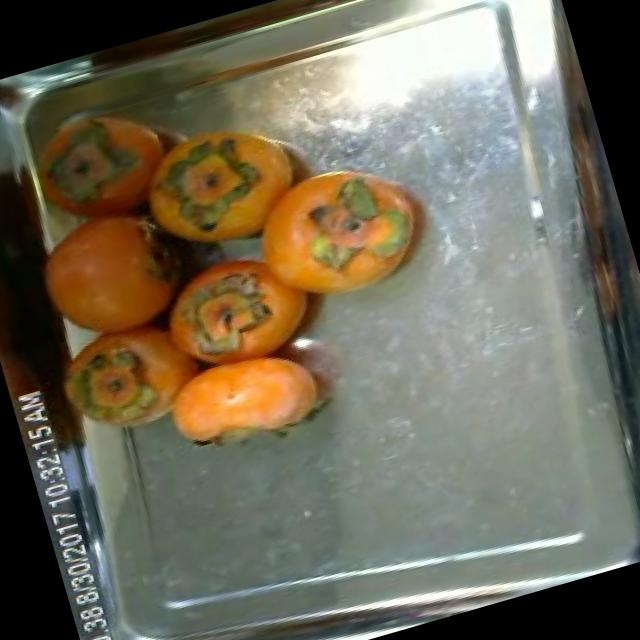Fruit: (0, 166, 240, 371), (143, 322, 337, 472), (112, 126, 272, 265)
